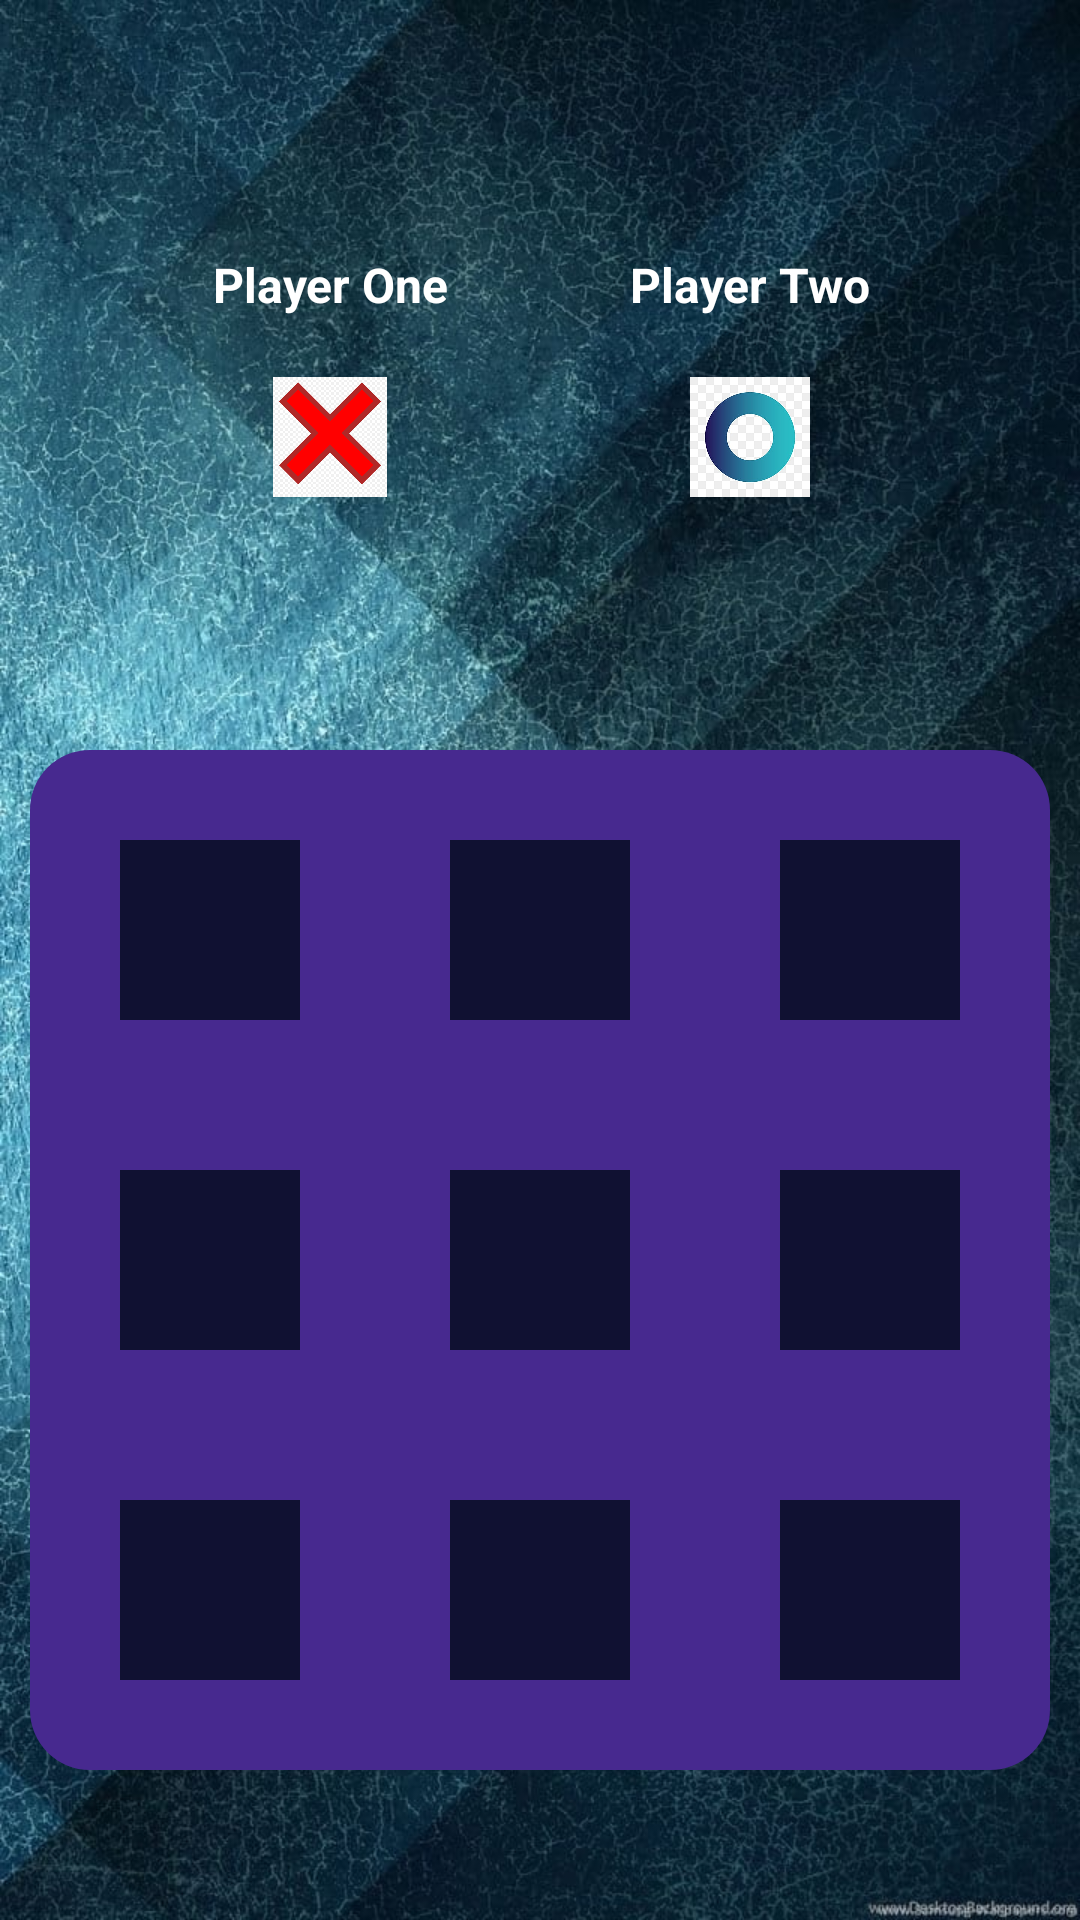

Screen size 1080x1920. Icon name, then its center in pixels as (x=x, y=y):
cross: (x=330, y=437)
round: (x=750, y=437)
